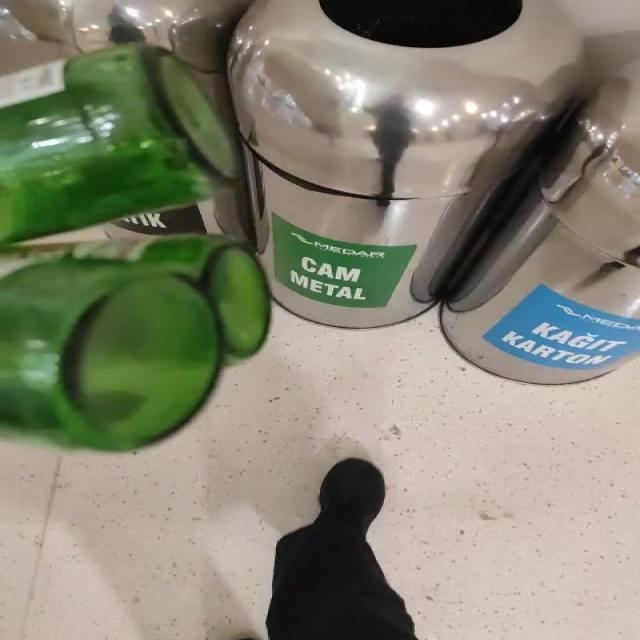glass: (0, 44, 269, 450)
